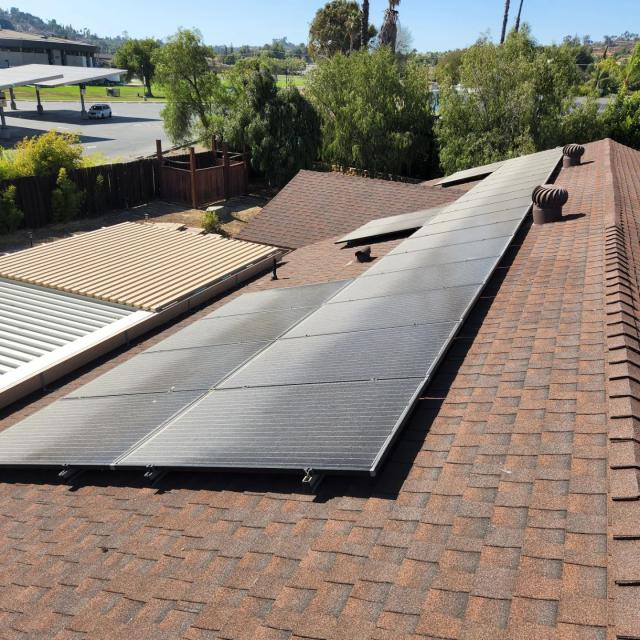dust-solar-panel: (0, 144, 568, 475)
